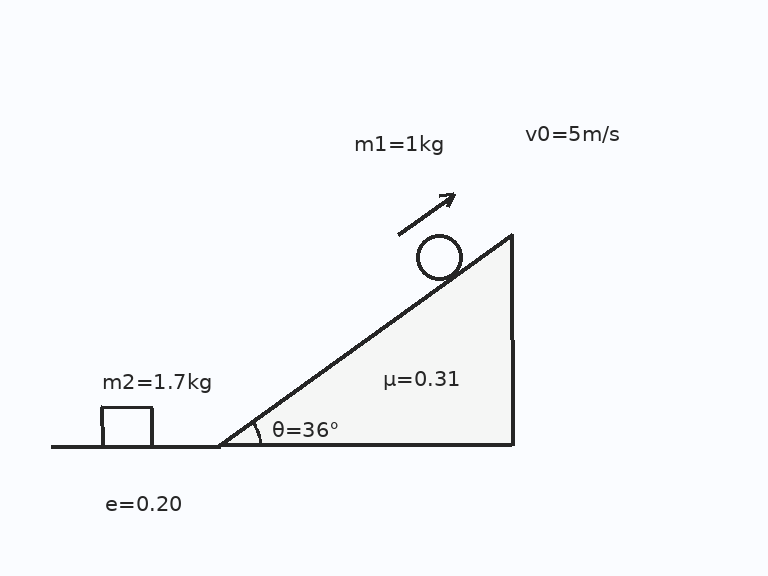ball: (414, 232, 464, 282)
block: (99, 406, 155, 447)
ramp: (218, 231, 513, 447)
